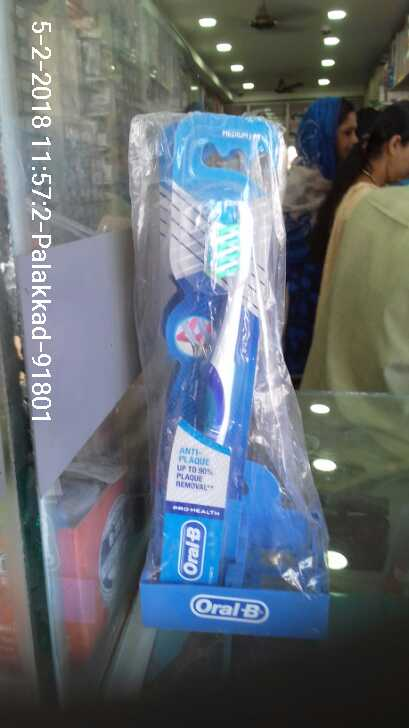oralb: (153, 116, 249, 585)
